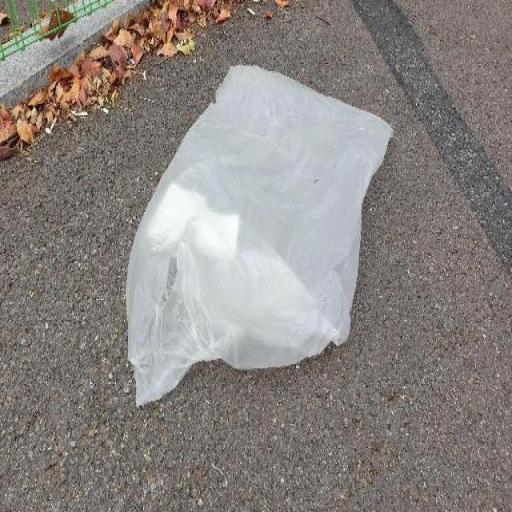plastic-bag: (125, 58, 394, 410)
